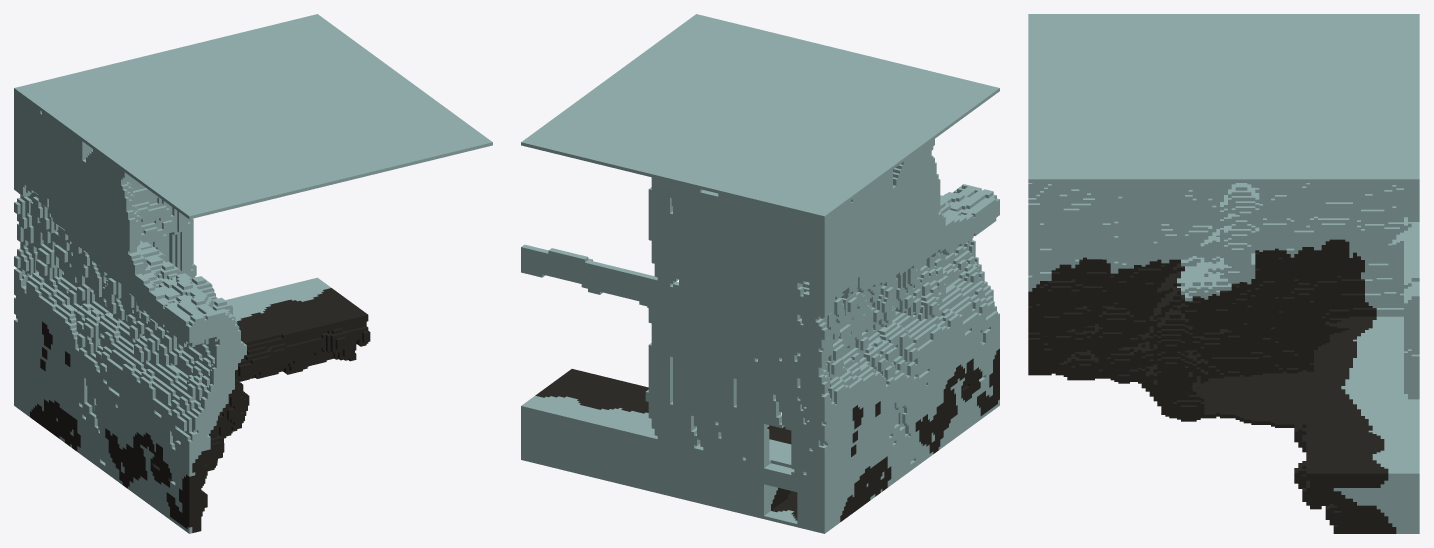
File: TerrainPieces-17.obj
The picture shows the model from 3 angles, left to right: view 1: azimuth 30°, elevation 25°; view 2: azimuth 150°, elevation 25°; view 3: azimuth 270°, elevation 25°; orthographic projection. The views are drawn at different scales.
Visible parts, largest first — view 1: TerrainPieces-17; view 2: TerrainPieces-17; view 3: TerrainPieces-17.
Part boxes in pixels (x1,y1,x2,y2): TerrainPieces-17: [14, 14, 492, 533]; TerrainPieces-17: [521, 14, 999, 533]; TerrainPieces-17: [1028, 14, 1419, 533].
Size of the model in its own units: 100 by 100 by 100.
Materials: 1 (1 with a texture image).
